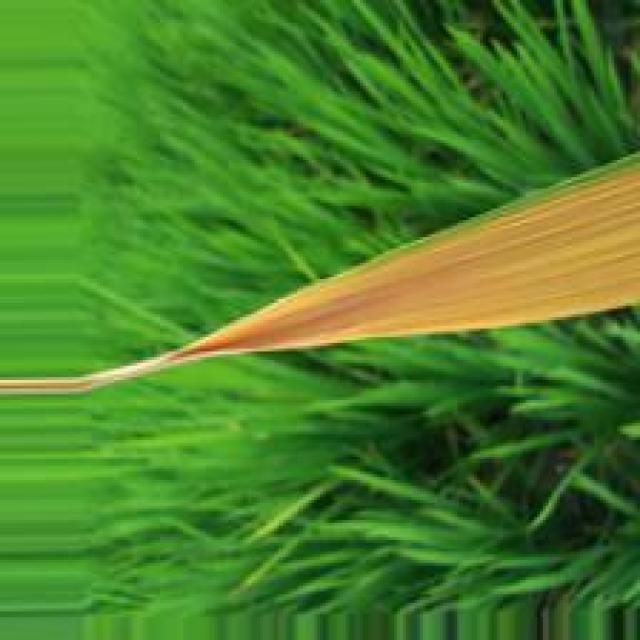Rice False Smut: (148, 170, 637, 368)
